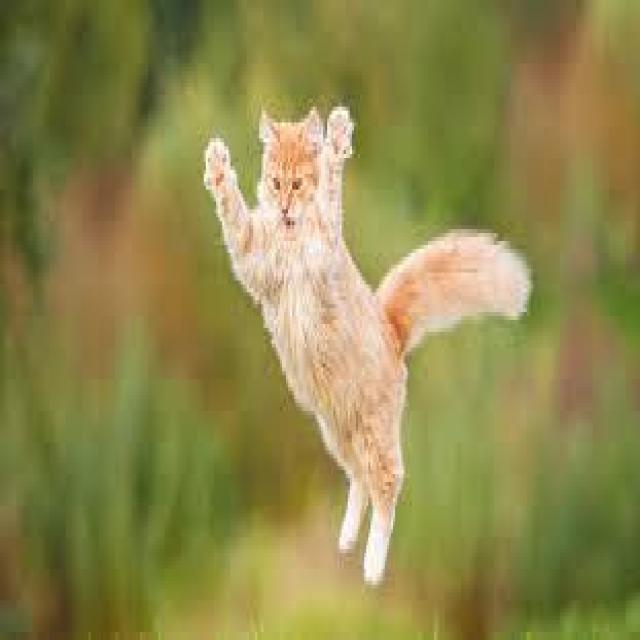cat: (203, 80, 492, 586)
